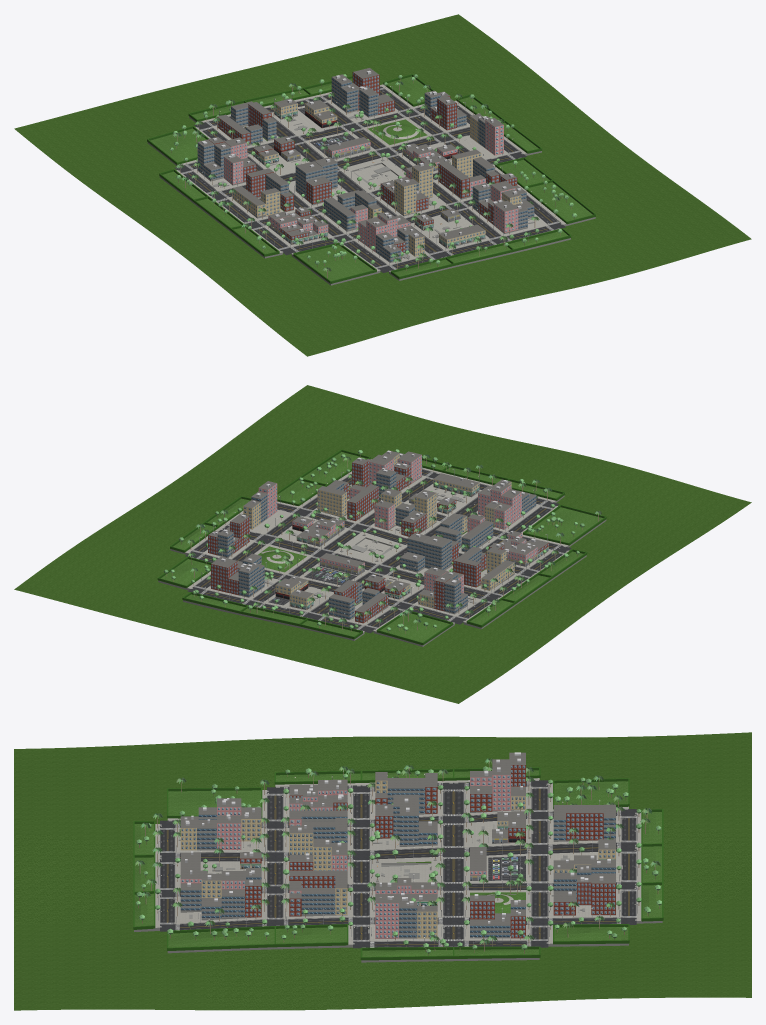
The model's file is city_map.glb.
3 views of the same model, one above another, from view 1: azimuth 30°, elevation 25°; view 2: azimuth 150°, elevation 25°; view 3: azimuth 270°, elevation 25° (orthographic). The views are drawn at different scales.
Parts seen in each view (by area): view 1: Ground, Roads_ES, Block_4_5_mixed, Block_2_5_mixed, Block_4_1_mixed, Block_1_2_mixed, Roads_WS, Block_3_4_mixed, Block_1_5_void, Block_1_3_courtyard, Roads_WN, Roads_EN (+28 smaller); view 2: Ground, Roads_ES, Roads_WS, Block_3_4_mixed, Block_4_5_mixed, Block_4_1_mixed, Block_1_5_void, Block_2_5_mixed, Block_1_3_courtyard, Block_4_4_courtyard, Block_1_2_mixed, Block_2_1_courtyard (+28 smaller); view 3: Ground, Roads_ES, Roads_WS, Roads_EN, Block_4_5_mixed, Block_2_5_mixed, Roads_WN, Block_4_1_mixed, Block_1_2_mixed, Block_4_4_courtyard, Block_2_3_mixed, Block_2_1_courtyard (+29 smaller).
Boxes of the visible parts, x1,y1,x2,y2 form: Ground: (14,14,751,356); Roads_ES: (266,87,519,171); Block_4_5_mixed: (466,173,548,236); Block_2_5_mixed: (351,211,430,265); Block_4_1_mixed: (325,68,400,123); Block_1_2_mixed: (191,136,256,192); Roads_WS: (175,116,367,223); Block_3_4_mixed: (374,163,448,218); Block_1_5_void: (291,236,380,285); Block_1_3_courtyard: (226,168,298,221); Roads_WN: (248,193,450,272); Roads_EN: (368,152,565,255); Ground: (14,385,751,703); Roads_ES: (185,514,378,616); Roads_WS: (303,547,529,633); Block_3_4_mixed: (368,488,442,538); Block_4_5_mixed: (347,450,428,497); Block_4_1_mixed: (204,553,279,600); Block_1_5_void: (520,504,606,547); Block_2_5_mixed: (466,479,542,532); Block_1_3_courtyard: (449,546,520,593); Block_4_4_courtyard: (311,480,380,524); Block_1_2_mixed: (412,567,481,617); Block_2_1_courtyard: (324,580,393,626); Ground: (14,732,751,1010); Roads_ES: (370,851,636,947); Roads_WS: (370,780,636,859); Roads_EN: (160,860,369,948); Block_4_5_mixed: (172,868,270,924); Block_2_5_mixed: (172,798,269,853); Roads_WN: (160,785,369,861); Block_4_1_mixed: (546,859,622,918); Block_1_2_mixed: (462,752,534,816); Block_4_4_courtyard: (280,870,354,920); Block_2_3_mixed: (368,794,444,851); Block_2_1_courtyard: (546,802,624,845).
Size of what is drawn, in the model's own units: 420 by 41.2 by 480.
19 materials, 17 textured.
